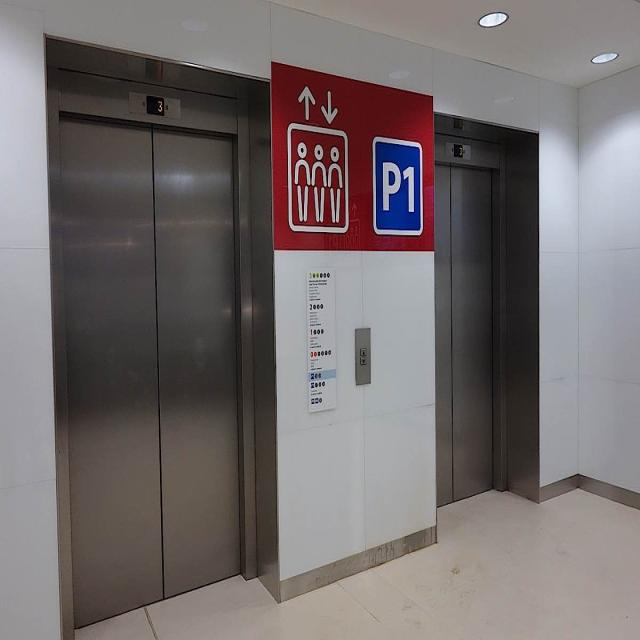lift_icon: (282, 78, 353, 244)
